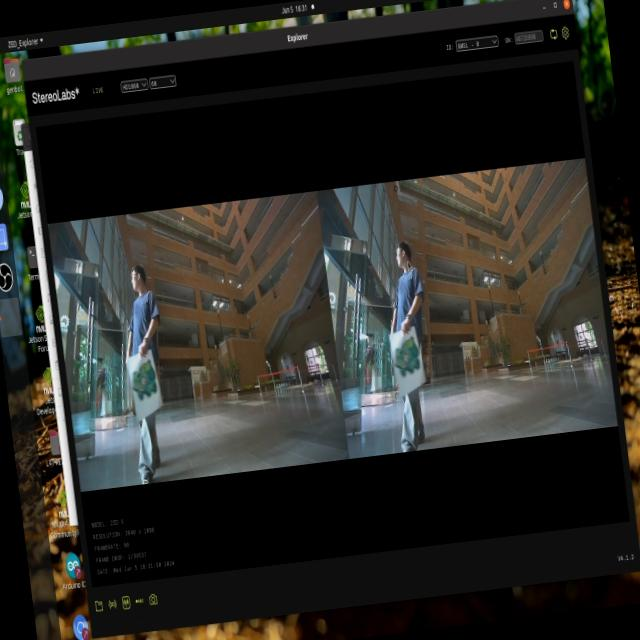green: (384, 325, 428, 380), (130, 354, 162, 411)
